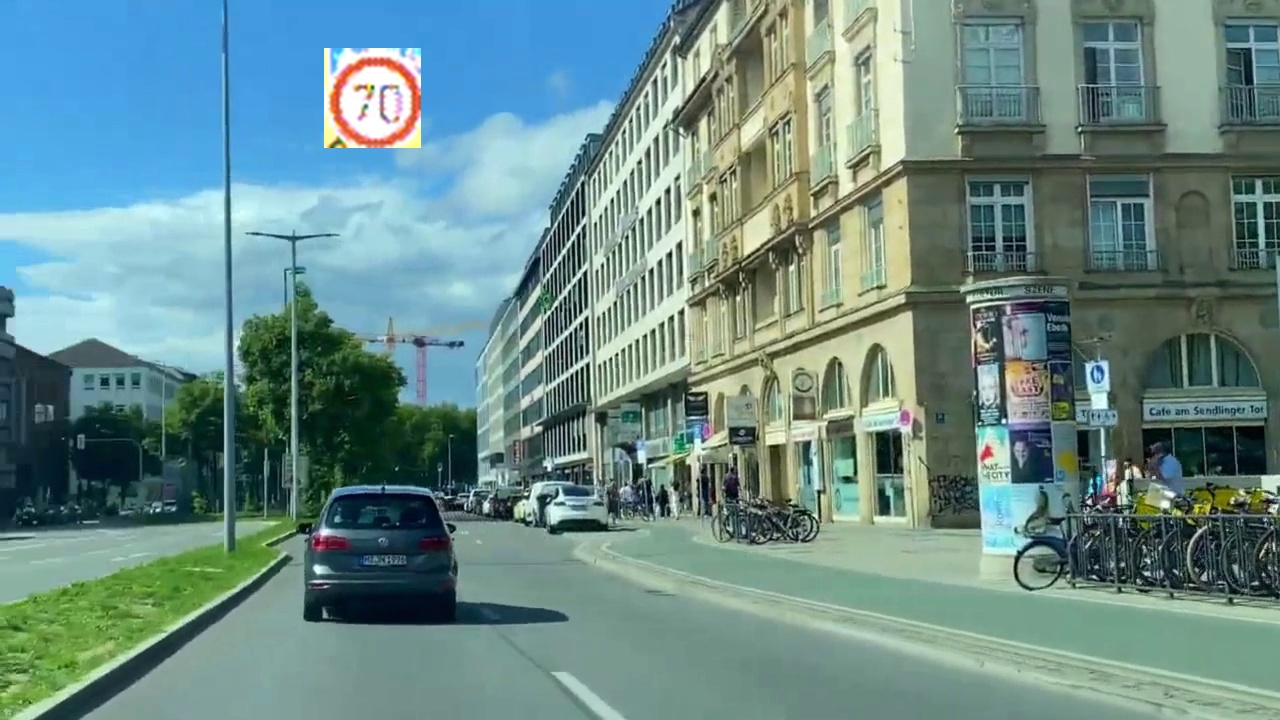Speed 70: (324, 48, 421, 148)
